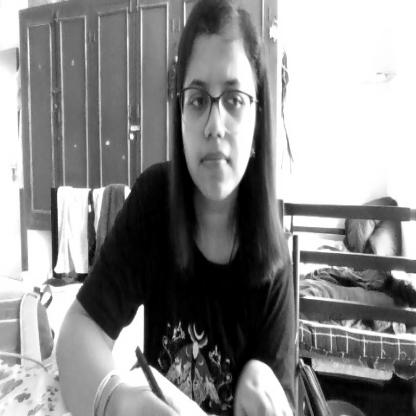Normal: (173, 0, 261, 213)
